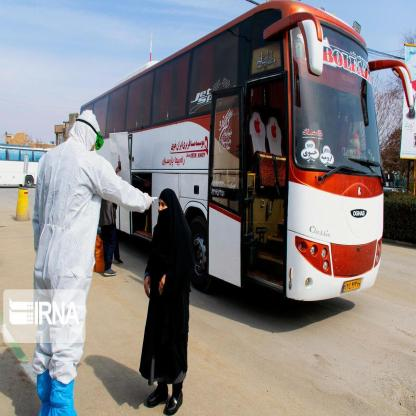Bus: (58, 0, 399, 319), (0, 140, 56, 206)
